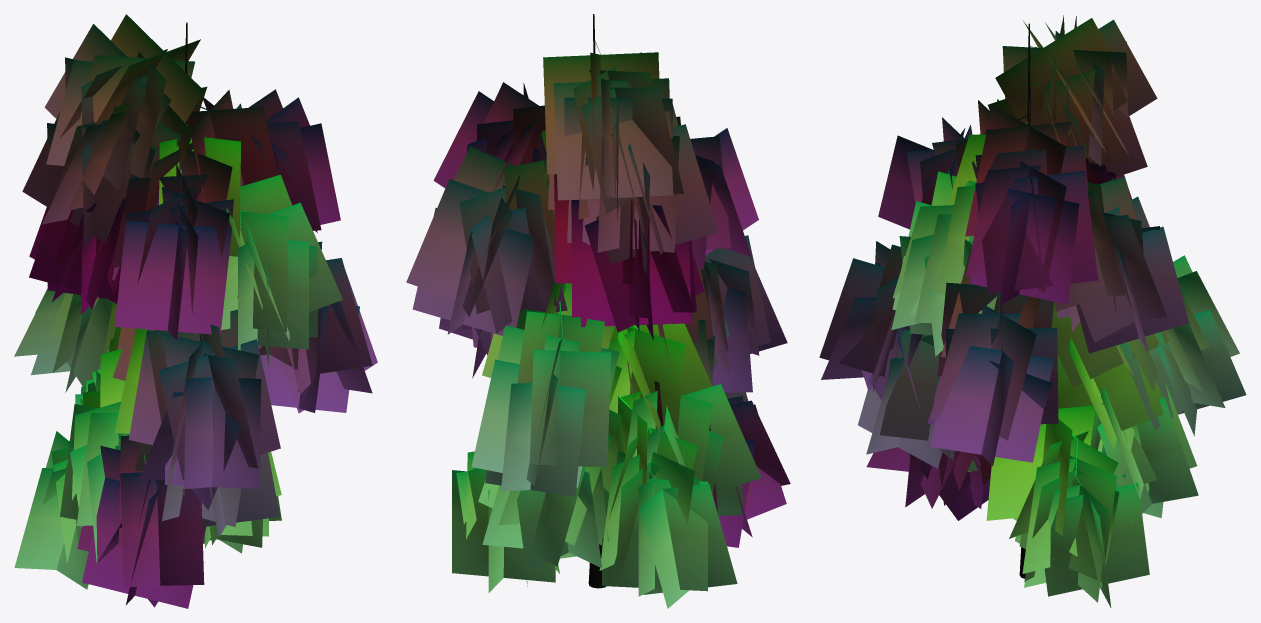
The model's file is URP_P13_Tree_2_LOD_2.fbx.
3 renders of one model, left to right at view 1: azimuth 30°, elevation 25°; view 2: azimuth 150°, elevation 25°; view 3: azimuth 270°, elevation 25°, orthographic. The views are drawn at different scales.
Parts seen in each view (by area): view 1: Tree_2_LOD_2; view 2: Tree_2_LOD_2; view 3: Tree_2_LOD_2.
Boxes of the visible parts, left/top/right/bottom form: Tree_2_LOD_2: left=14, top=14, right=377, bottom=608; Tree_2_LOD_2: left=406, top=14, right=790, bottom=608; Tree_2_LOD_2: left=819, top=15, right=1246, bottom=607.
Bounding box in the file's own units: 367 × 602 × 421.
